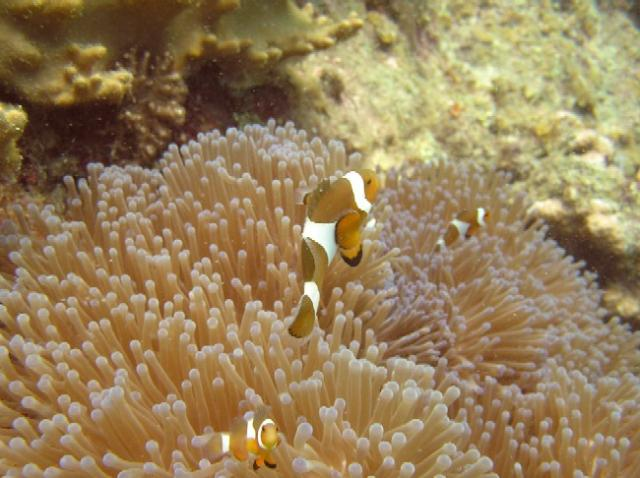Sirip Dada: (330, 205, 366, 253)
Sirip Ekor: (264, 288, 340, 356)
Sirip Punggung: (286, 171, 340, 291)
